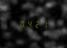four: (25, 19, 31, 27)
one: (39, 20, 45, 28)
two: (32, 19, 38, 28)
zero: (18, 19, 24, 27)
